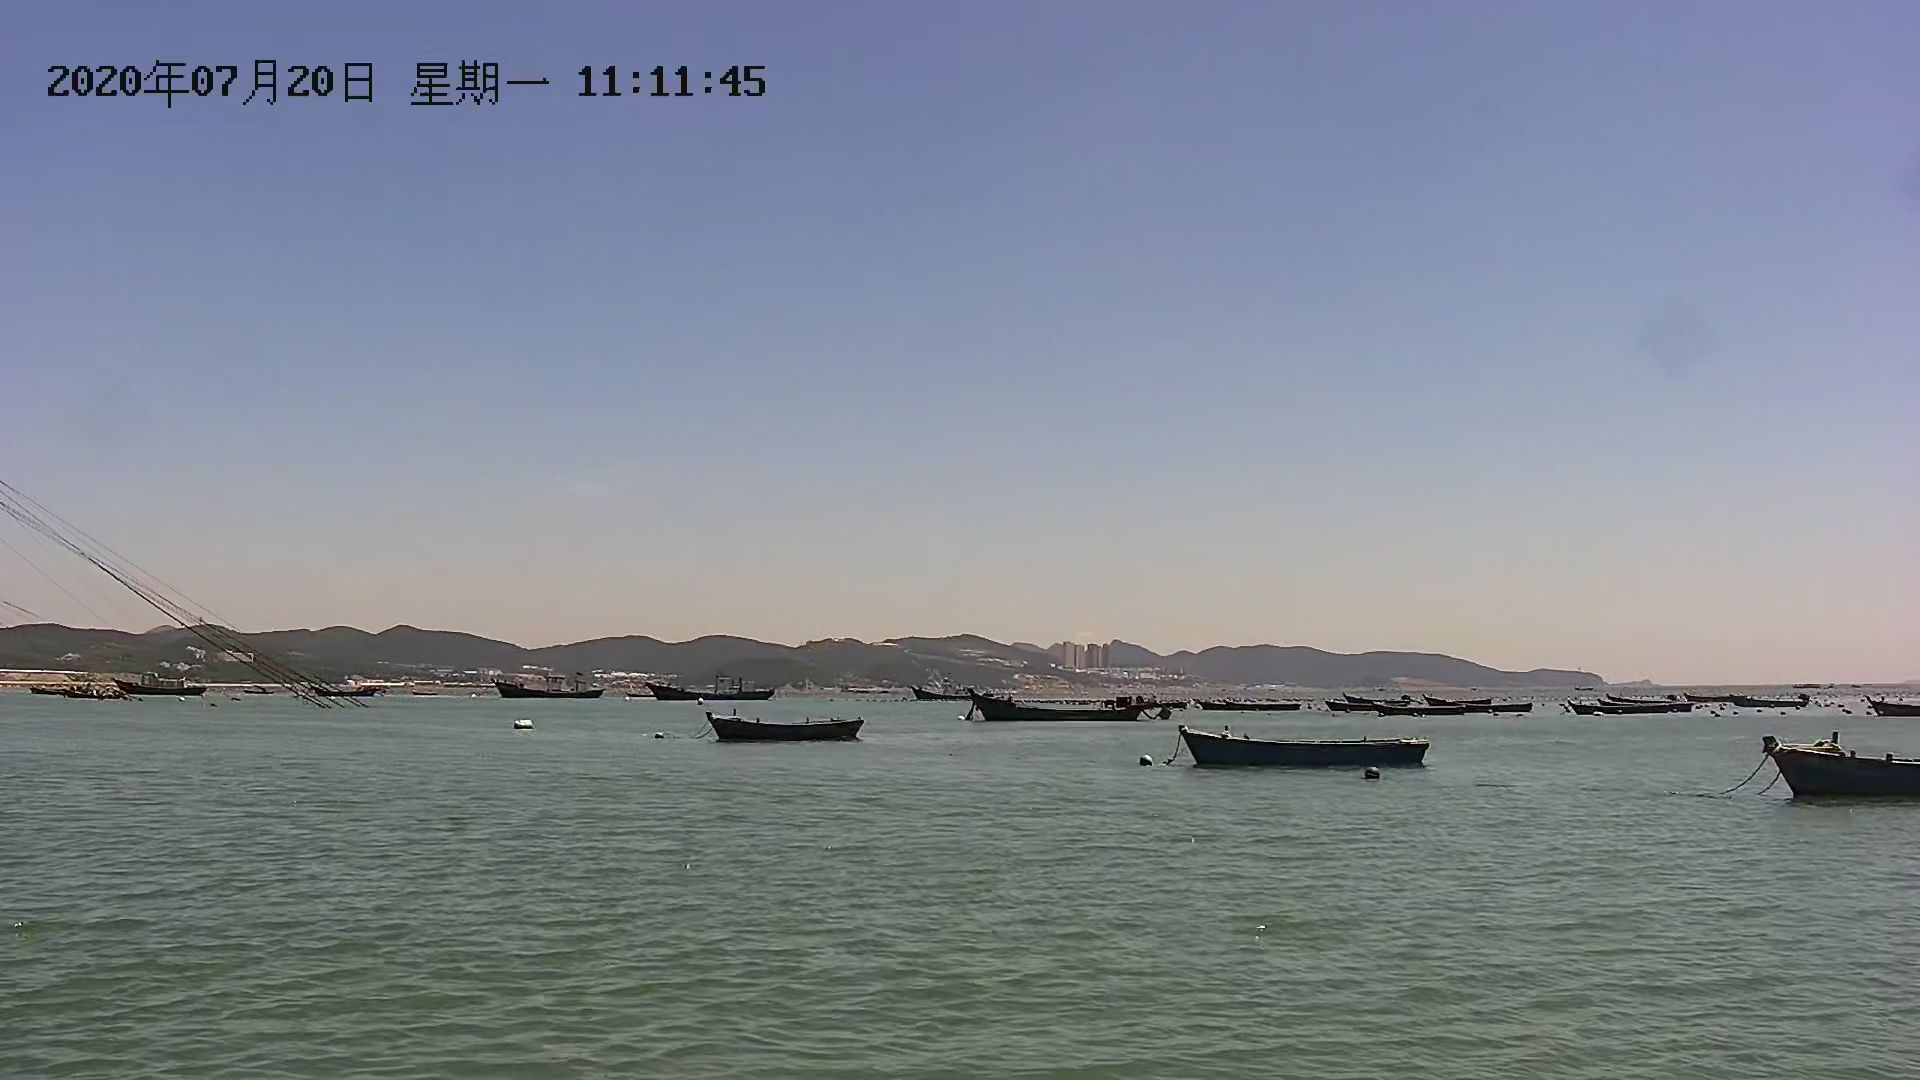ball: (1360, 765, 1389, 789), (1137, 752, 1160, 771)
boat: (1171, 717, 1433, 775), (1755, 735, 1920, 799), (959, 687, 1154, 727), (715, 705, 866, 746), (644, 679, 777, 699), (500, 676, 615, 699), (123, 671, 204, 694)
rubbish: (512, 712, 538, 735)
